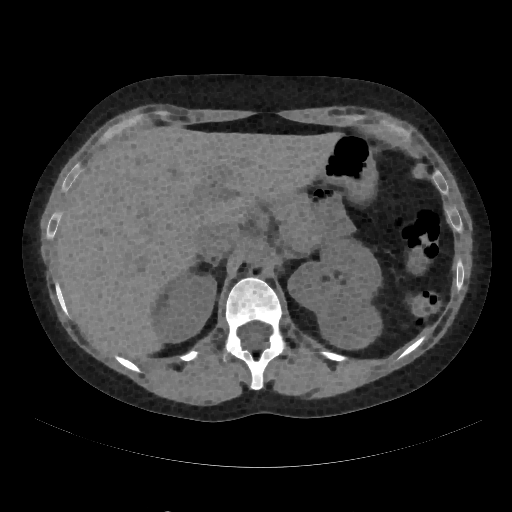Lesion: (315, 293, 387, 356)
